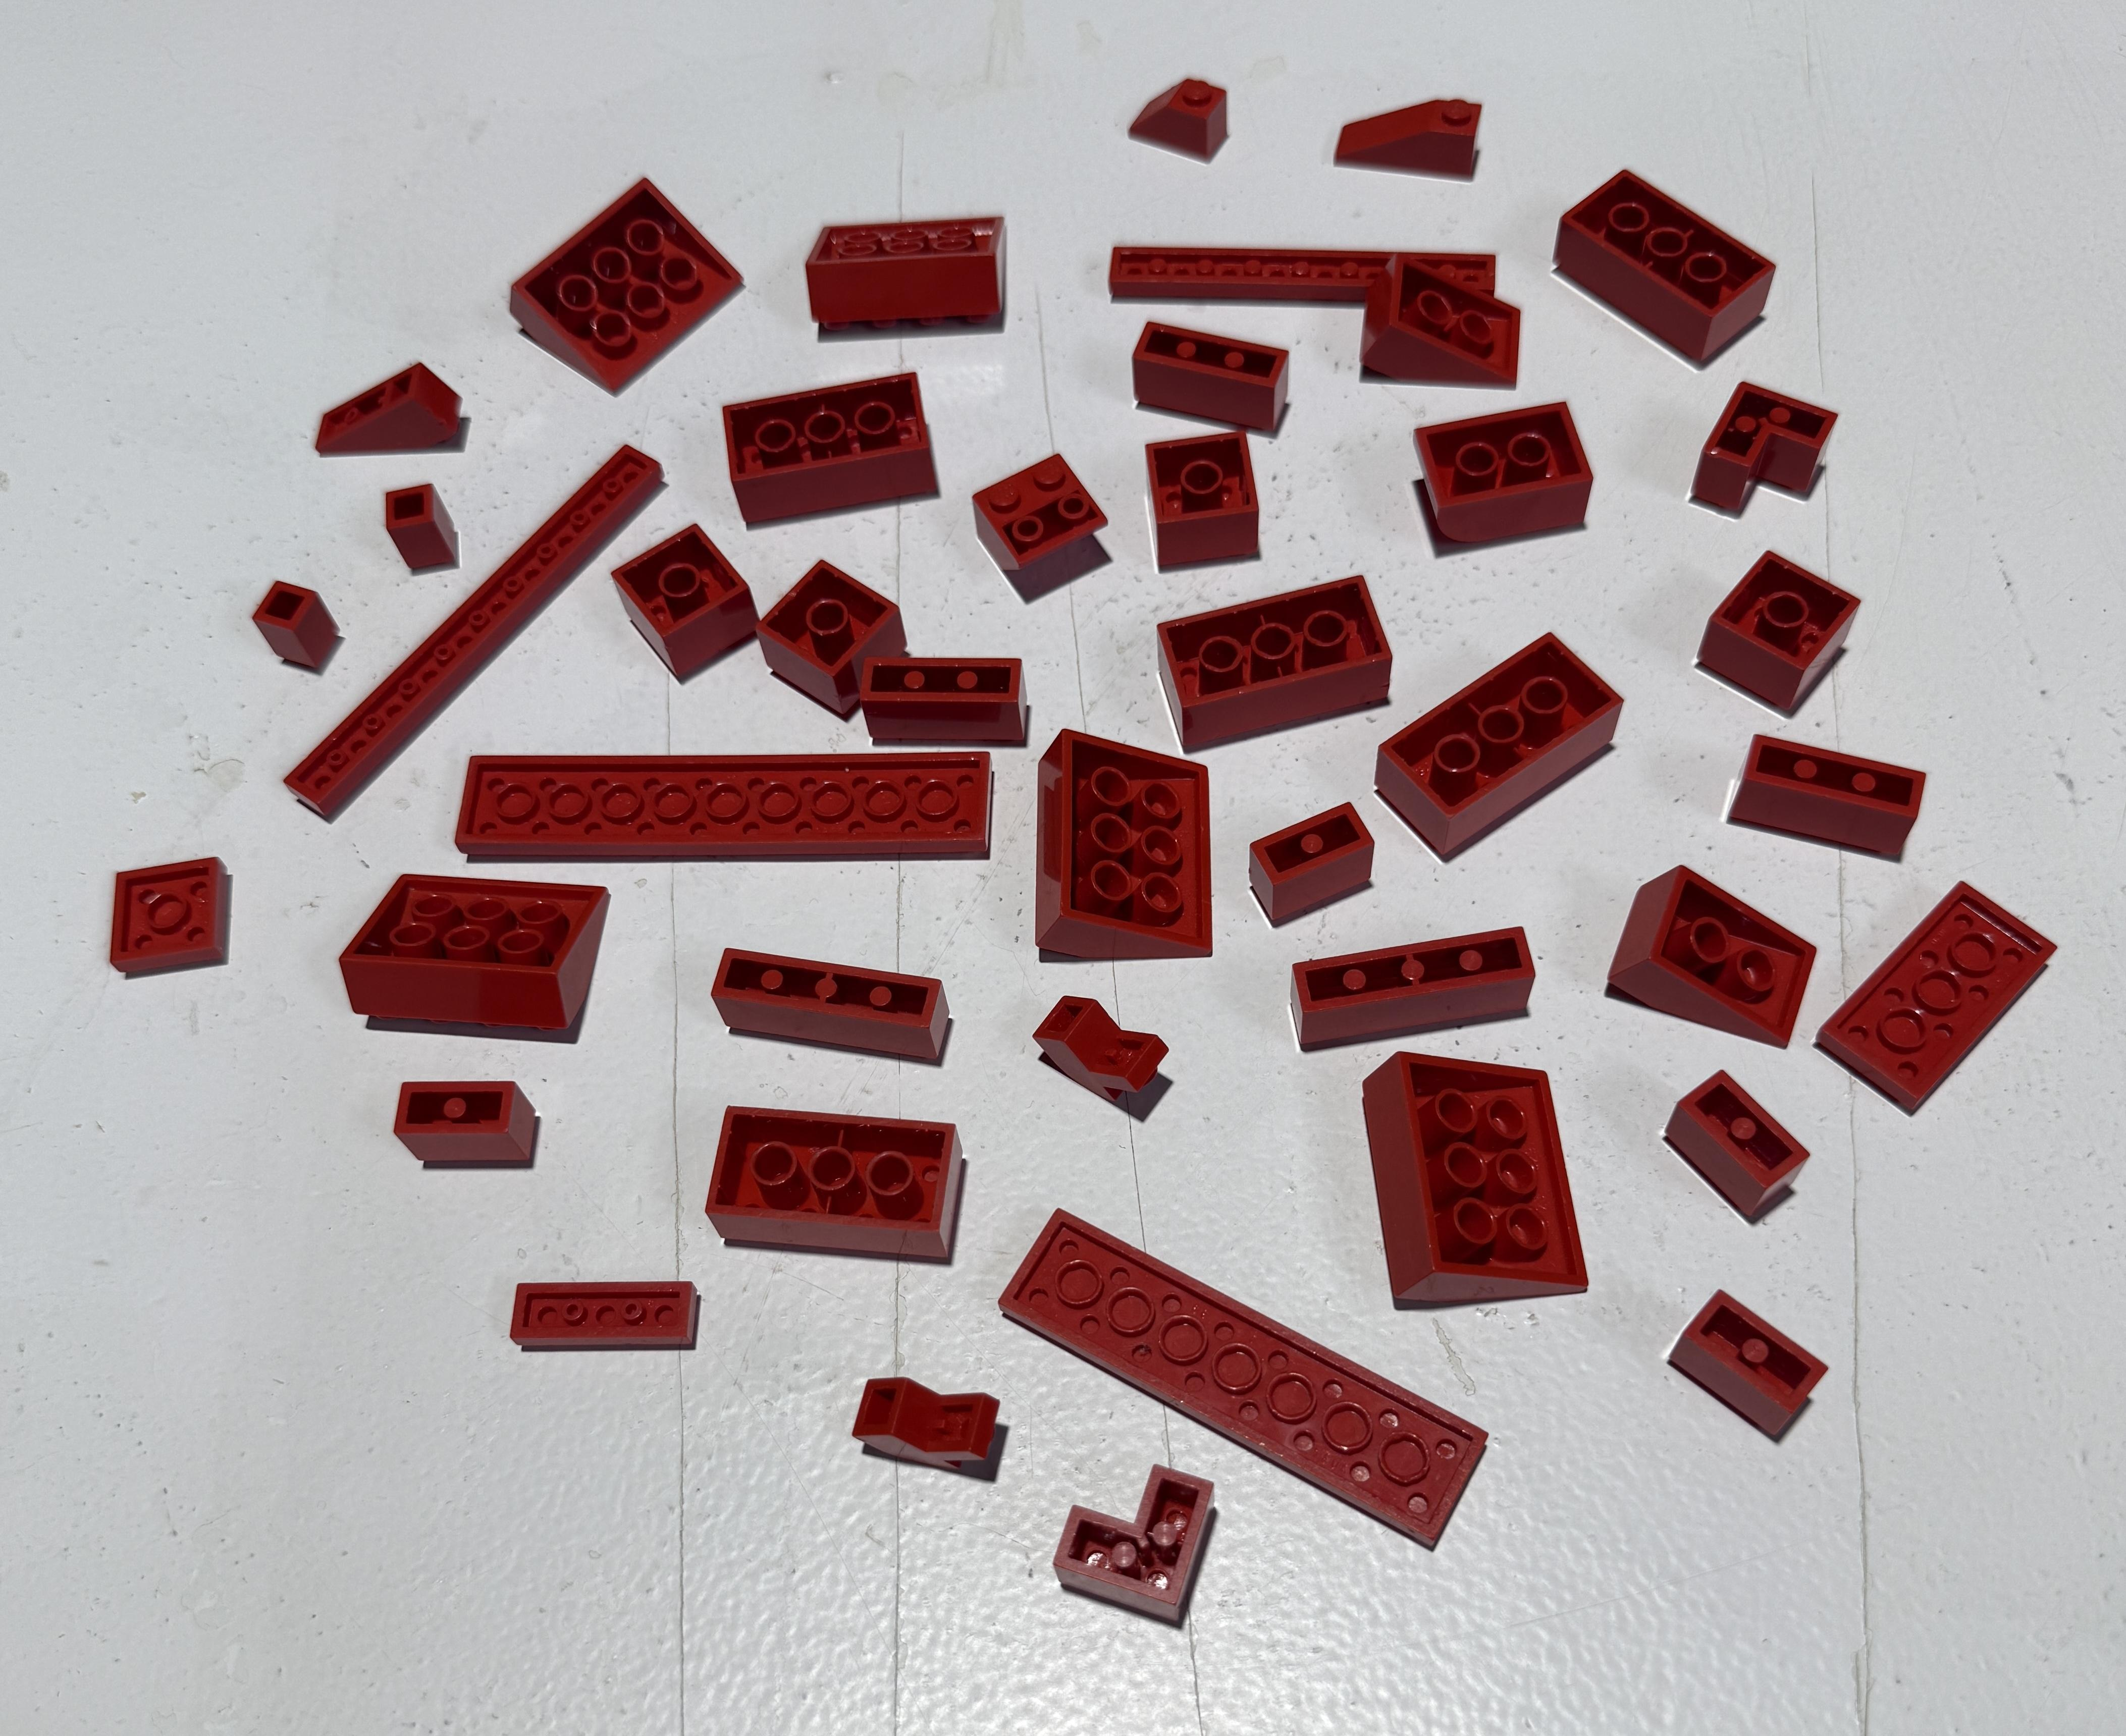Special_02: (1577, 849, 1838, 1076), (1358, 247, 1543, 403)
brick_1x1: (237, 556, 364, 706), (371, 468, 487, 597)
brick_1x2: (1651, 1040, 1829, 1249), (1656, 1270, 1858, 1446), (1100, 302, 1319, 456), (378, 1056, 574, 1201), (1236, 786, 1395, 943)
brick_1x3: (1704, 705, 1983, 888), (823, 623, 1072, 759)
brick_1x4: (1268, 913, 1559, 1068), (694, 931, 980, 1076)
brick_2x2: (1670, 533, 1900, 729), (731, 523, 915, 722), (611, 509, 766, 698)
brick_2x4: (1365, 620, 1646, 878), (1540, 150, 1792, 385), (1146, 553, 1409, 774), (692, 1088, 975, 1266), (712, 359, 962, 533), (795, 191, 1031, 348)
